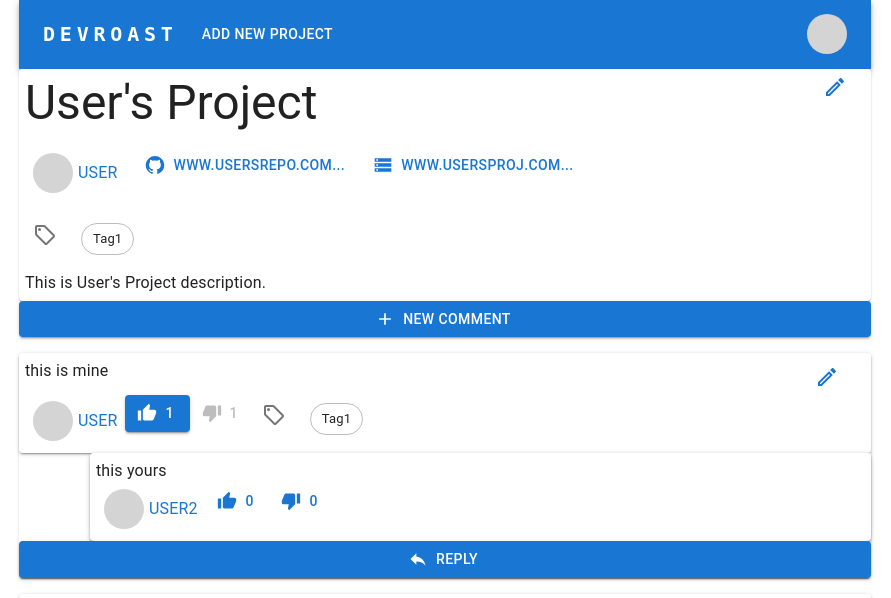
Test: Comment CRUD logged in › edits an existing comment
Click the button with id "EditButton": [827, 377] box [795,359,859,395]
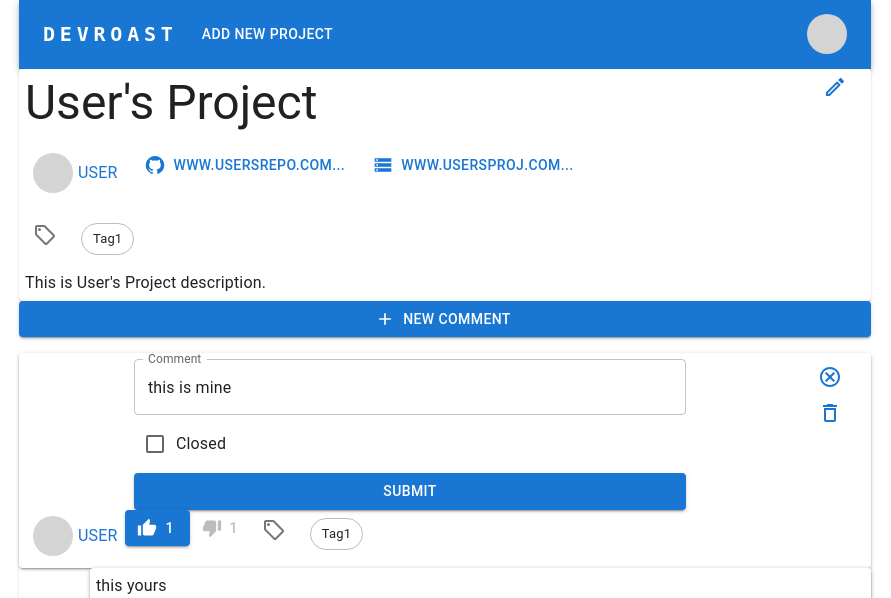
Check: the text box named "Comment" holds "this is mine", box [148,376,672,399]
